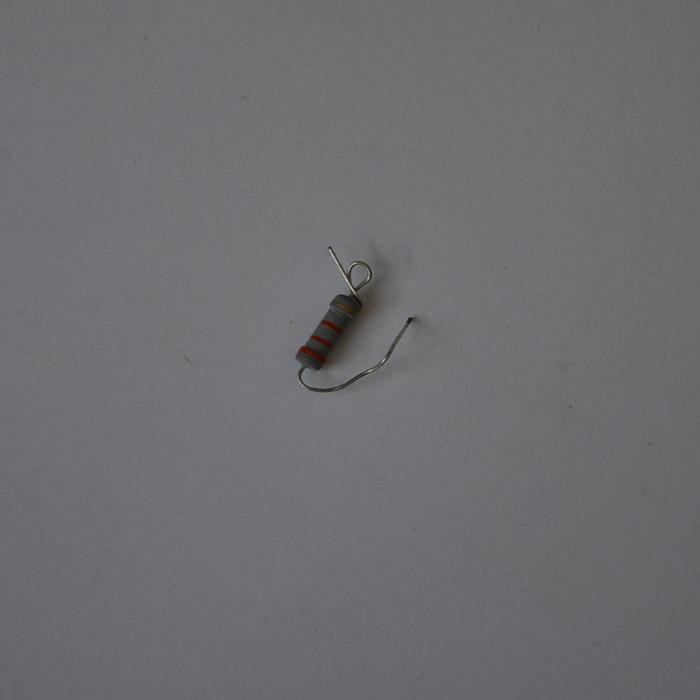resistor: (295, 292, 362, 372)
